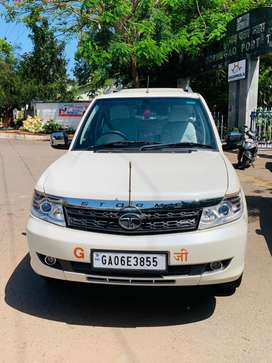GA06E3855: (93, 251, 167, 269)
